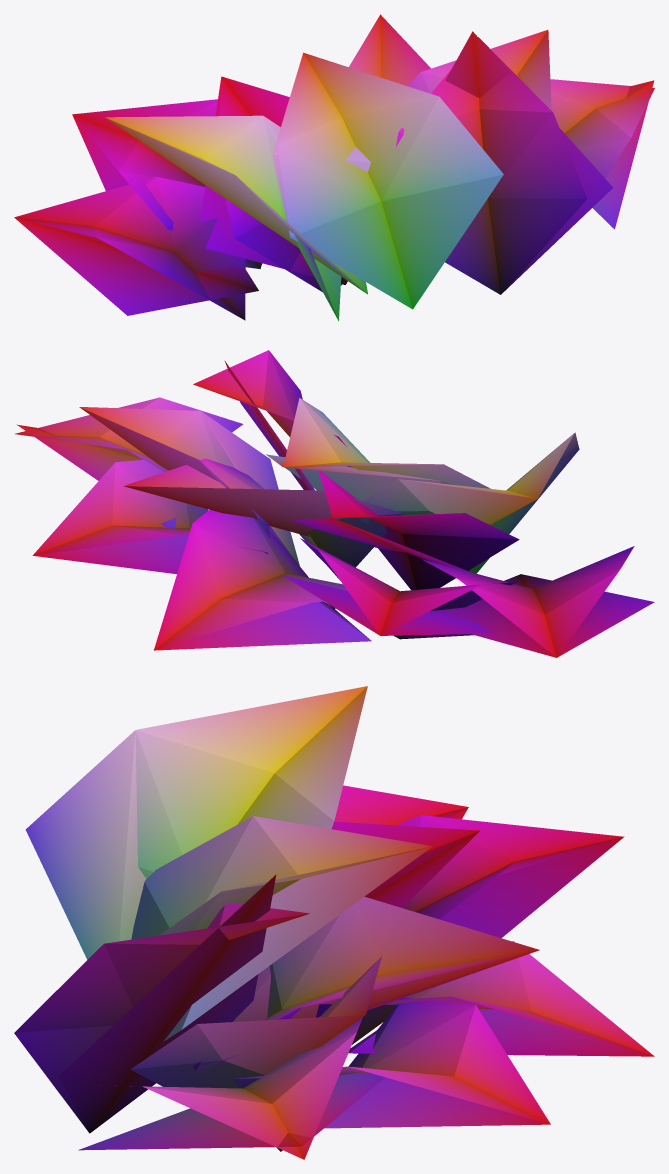
Rendered from broadfern_partial_a.dae.
3 views of the same model, one above another, from view 1: azimuth 30°, elevation 25°; view 2: azimuth 150°, elevation 25°; view 3: azimuth 270°, elevation 25° (orthographic). The views are drawn at different scales.
Visible parts, largest first — view 1: broadfern64, broadfern8; view 2: broadfern64, broadfern8; view 3: broadfern64, broadfern8.
Part boxes in pixels (left/top/right/bottom): broadfern64: left=14, top=14, right=654, bottom=321; broadfern8: left=14, top=31, right=654, bottom=315; broadfern64: left=15, top=350, right=634, bottom=657; broadfern8: left=17, top=360, right=654, bottom=657; broadfern64: left=14, top=686, right=653, bottom=1159; broadfern8: left=25, top=730, right=654, bottom=1151.
Size of the model in its own units: 3.46 by 2.37 by 1.21.
